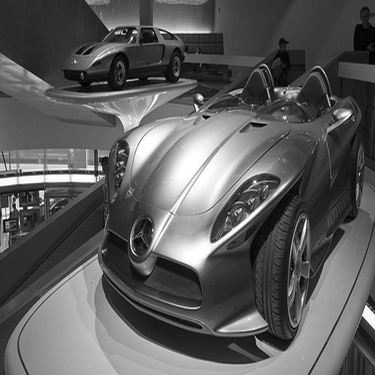car: (85, 62, 369, 346), (59, 18, 188, 85)
